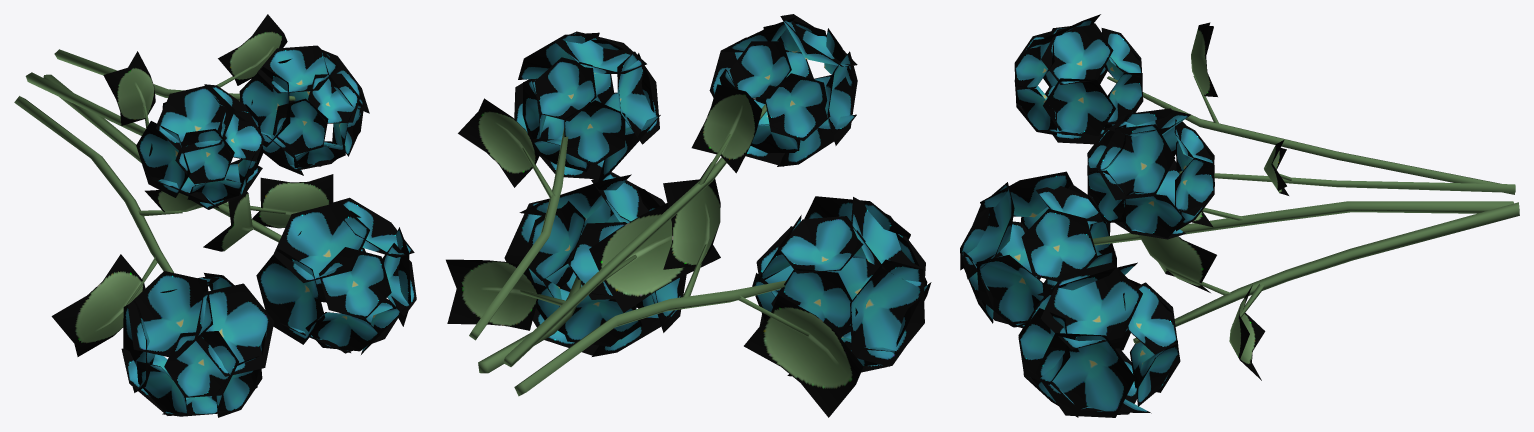
The model's file is Flower_1_Clump.glb.
3 renders of one model, left to right at view 1: azimuth 30°, elevation 25°; view 2: azimuth 150°, elevation 25°; view 3: azimuth 270°, elevation 25°, orthographic. The views are drawn at different scales.
Parts seen in each view (by area): view 1: Flower_1_Clump; view 2: Flower_1_Clump; view 3: Flower_1_Clump.
Boxes of the visible parts, <box> form: Flower_1_Clump: <box>14,14,416,417</box>; Flower_1_Clump: <box>446,14,931,417</box>; Flower_1_Clump: <box>960,14,1519,417</box>.
Size of the model in its own units: 0.4711 by 0.4352 by 0.6713.
1 material, 1 textured.
